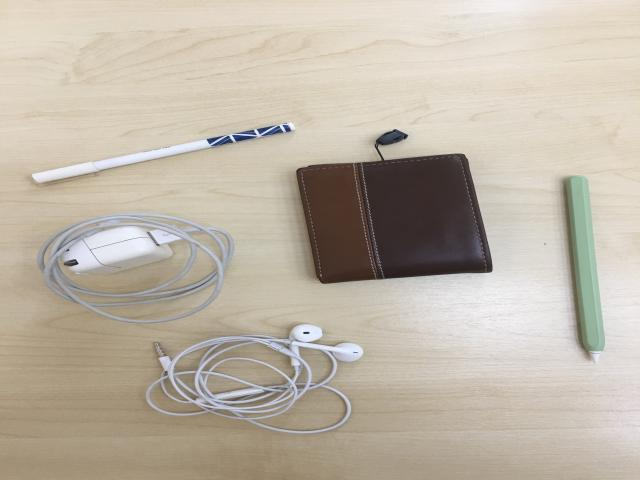Pen: (29, 123, 296, 187)
Wallet: (295, 154, 495, 285)
wire: (145, 325, 364, 437), (37, 214, 233, 325)
